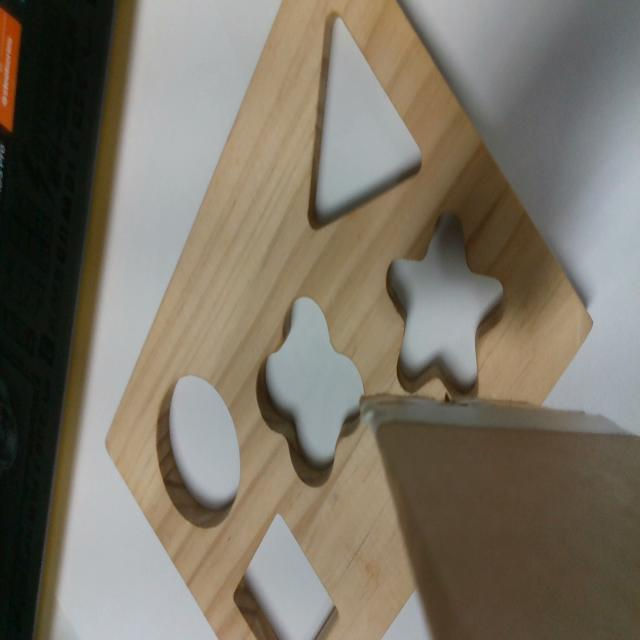circle: (157, 379, 240, 527)
flower: (255, 297, 363, 491)
square: (231, 512, 343, 638)
star: (384, 211, 507, 403)
triangle: (307, 8, 422, 232)
